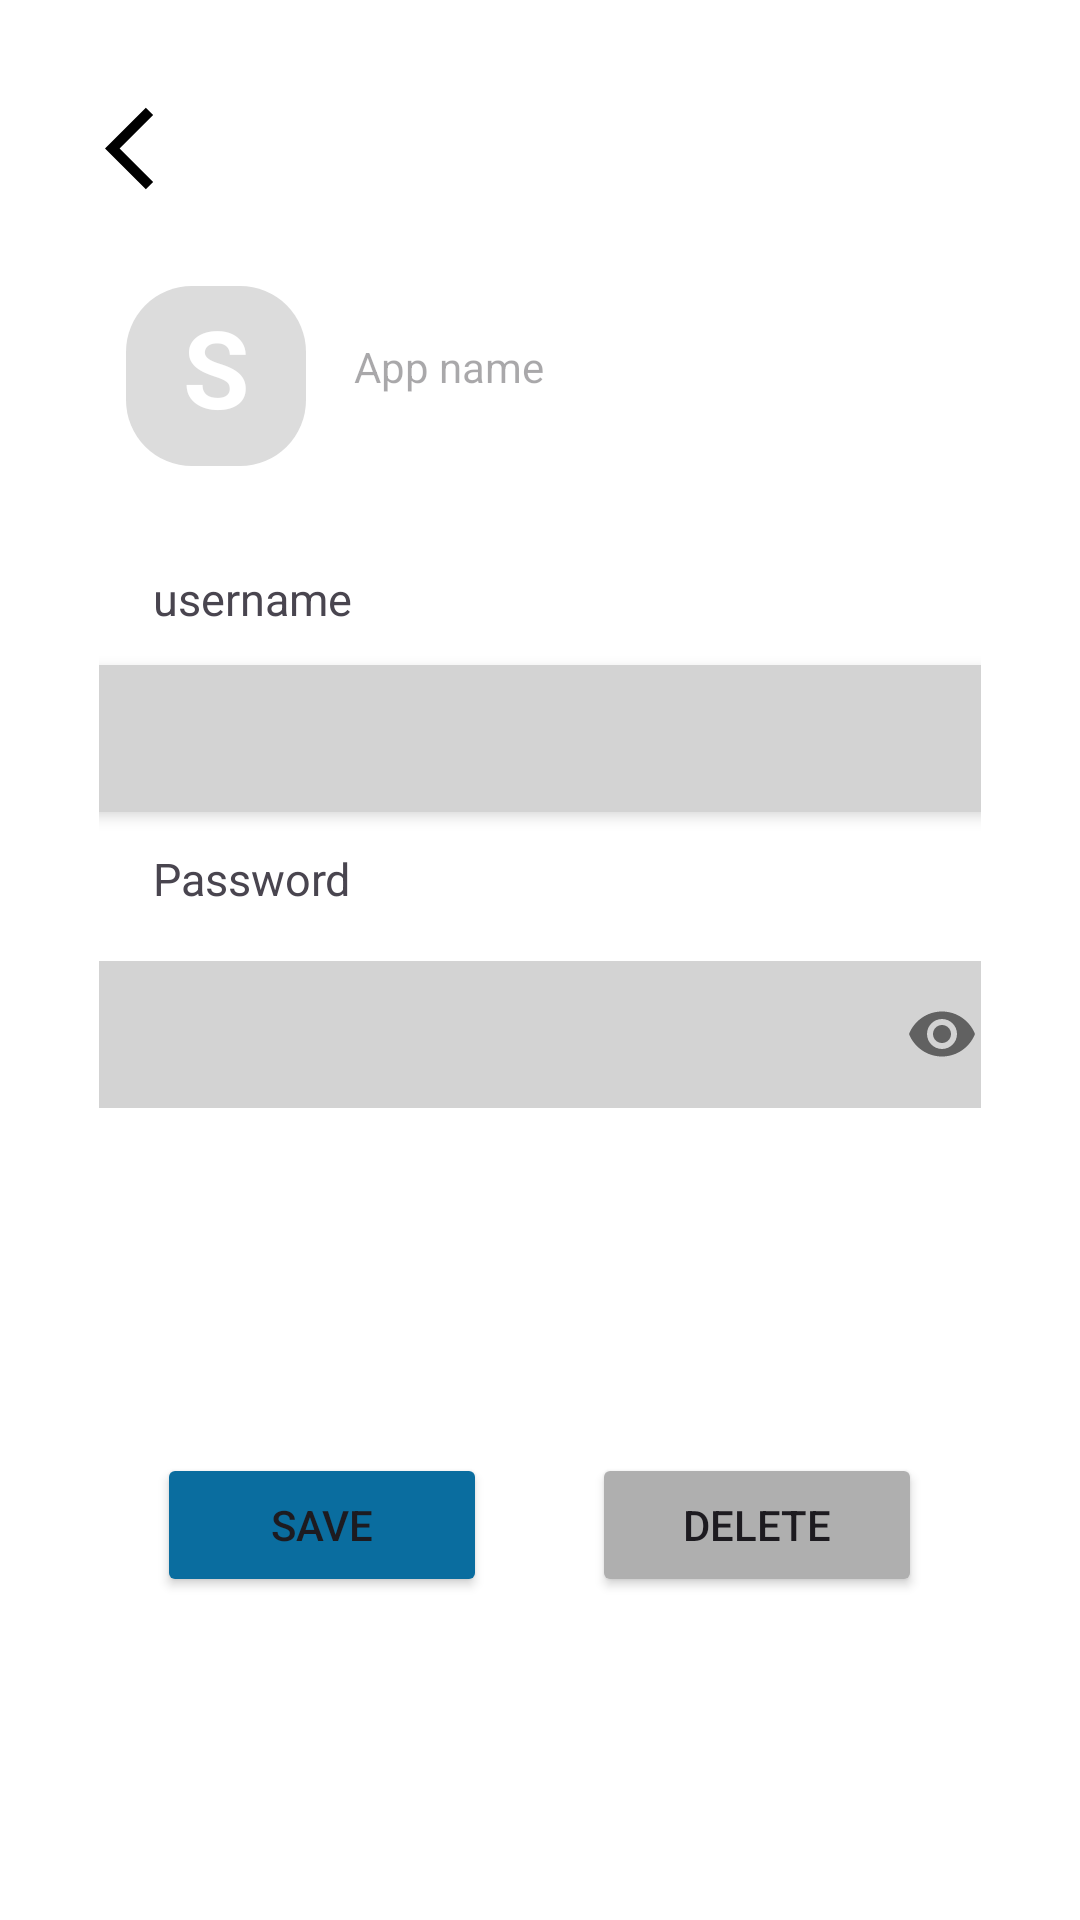

Screen size 1080 × 1920. Icon name, then its box in pixels as {"left": x1, "top": y1, "right": x2, "bottom": y2}:
arrow back: {"left": 105, "top": 108, "right": 153, "bottom": 189}
